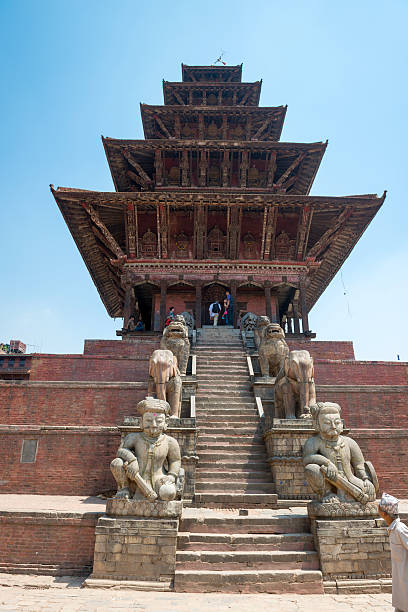nyathapola: (37, 26, 376, 562)
